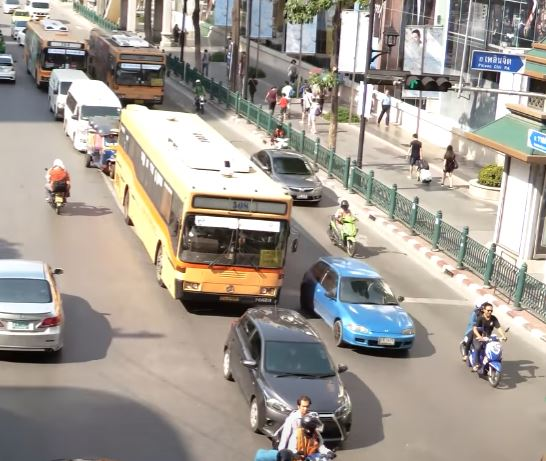Bus: (113, 107, 293, 308), (89, 28, 167, 108), (25, 19, 93, 87), (63, 79, 124, 152), (48, 68, 92, 119)
Car: (220, 305, 353, 444), (301, 256, 418, 355), (1, 256, 66, 361), (251, 147, 325, 207)
Motorcycle: (459, 302, 510, 390), (327, 198, 361, 257), (42, 158, 73, 216), (193, 77, 207, 113)
TukTuk: (87, 116, 128, 175)
